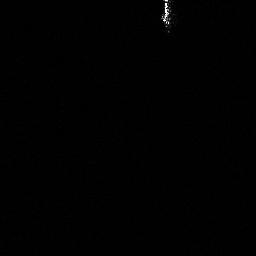ship: (158, 1, 177, 31)
